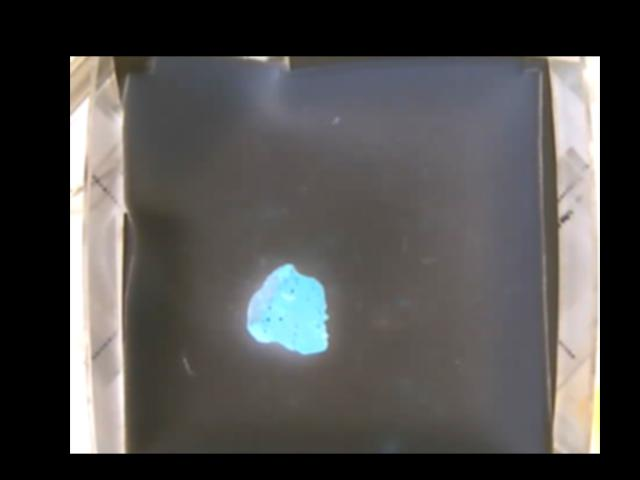Brisk: (245, 262, 330, 353)
